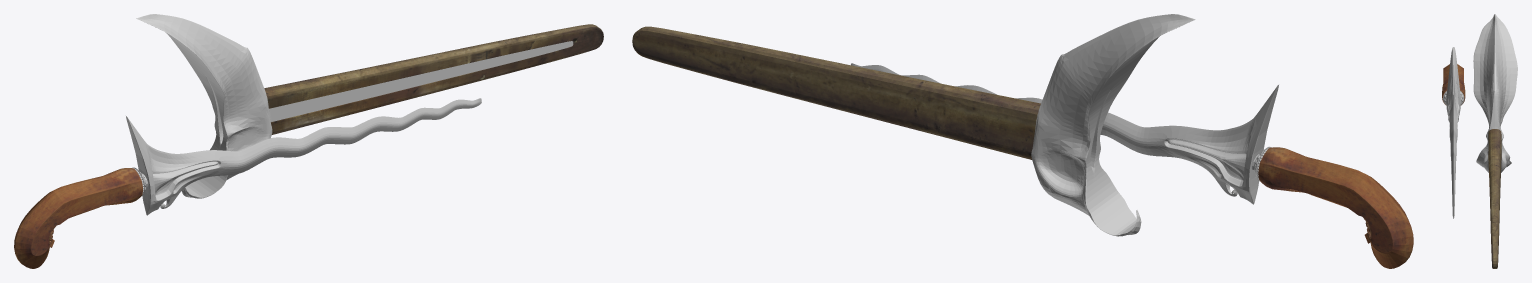
Rendered from Kris_Dagger.obj.
3 renders of one model, left to right at view 1: azimuth 30°, elevation 25°; view 2: azimuth 150°, elevation 25°; view 3: azimuth 270°, elevation 25°, orthographic. The views are drawn at different scales.
Parts seen in each view (by area): view 1: ?????_HIGH_POLY, Metal, Object004, Grip; view 2: Metal, ?????_HIGH_POLY, Object004, Grip; view 3: ?????_HIGH_POLY, Metal, Object004, Grip.
Boxes of the visible parts, x1=… form: ?????_HIGH_POLY: x1=136, y1=14, x2=573, y2=198; Metal: x1=264, y1=24, x2=603, y2=134; Object004: x1=126, y1=98, x2=481, y2=215; Grip: x1=14, y1=168, x2=142, y2=268; Metal: x1=632, y1=26, x2=1040, y2=159; ?????_HIGH_POLY: x1=1031, y1=14, x2=1195, y2=236; Object004: x1=851, y1=63, x2=1278, y2=204; Grip: x1=1258, y1=147, x2=1413, y2=268; ?????_HIGH_POLY: x1=1473, y1=14, x2=1517, y2=172; Metal: x1=1488, y1=129, x2=1501, y2=268; Object004: x1=1443, y1=47, x2=1464, y2=218; Grip: x1=1442, y1=64, x2=1465, y2=105.
Bounding box in the file's own units: 392 × 120 × 59.93.
